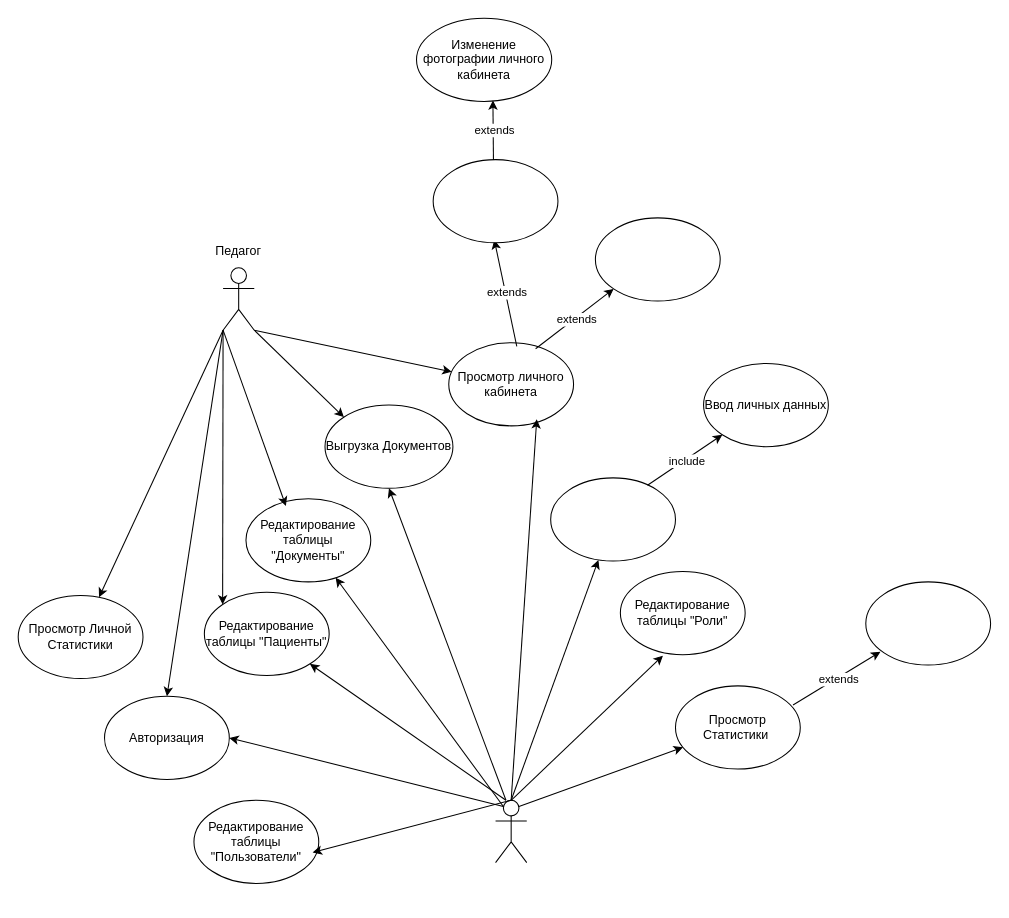
The diagram is 1009 pixels wide and 918 high, and some of its shapes have lost their labels. Each missing label, with the centre of its shape:
Администратор: point (511, 831)
Изменение пароля: point (657, 259)
Просмотр персональных данных: point (495, 201)
Регистрация нового Пользователя: point (612, 519)
Экспорт статистики: point (928, 623)
